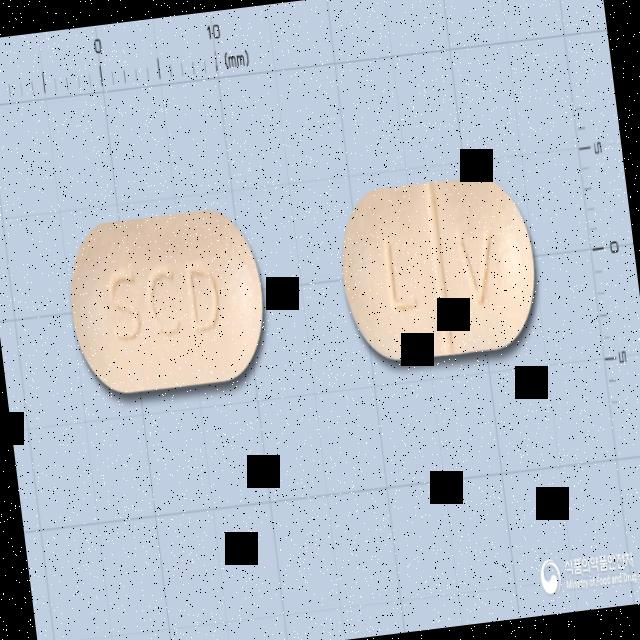Levostar: (62, 202, 273, 400), (332, 172, 544, 366)
